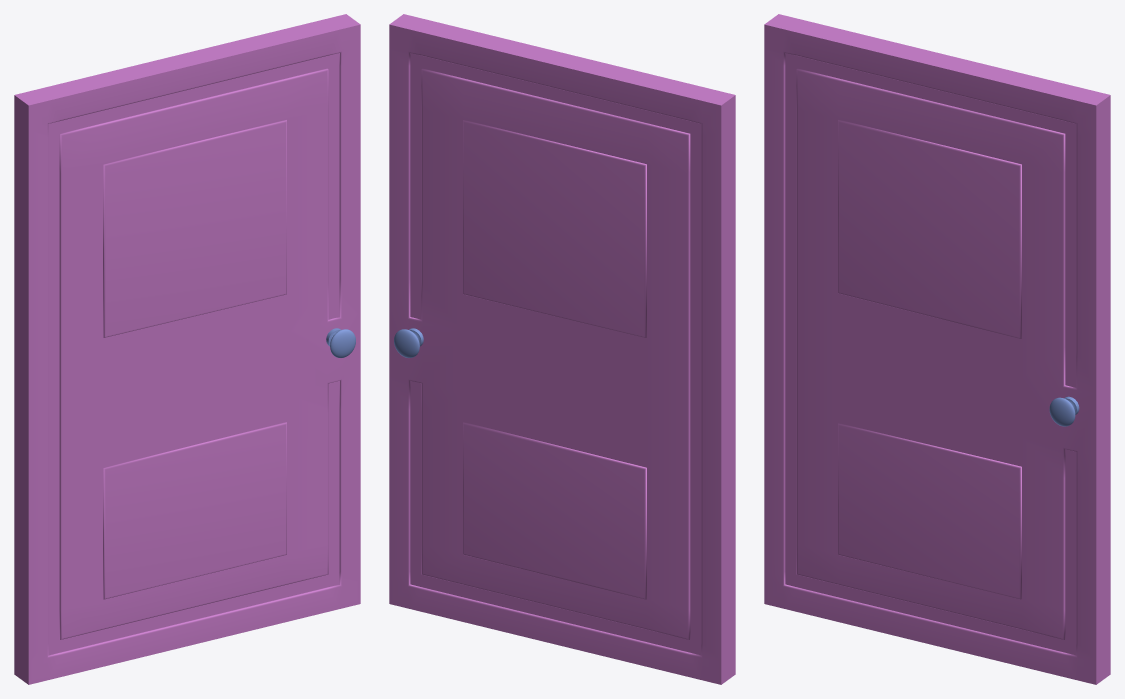
The model's file is porte_menu.fbx.
3 renders of one model, left to right at view 1: azimuth 30°, elevation 25°; view 2: azimuth 150°, elevation 25°; view 3: azimuth 330°, elevation 25°, orthographic.
Parts seen in each view (by area): view 1: Box012; view 2: Box012; view 3: Box012.
Boxes of the visible parts, box(x1,y1,x2,y2) form: Box012: box(14, 14, 360, 684); Box012: box(389, 14, 735, 684); Box012: box(764, 14, 1110, 684).
Size of the model in its own units: 46.37 by 77.33 by 8.5.
